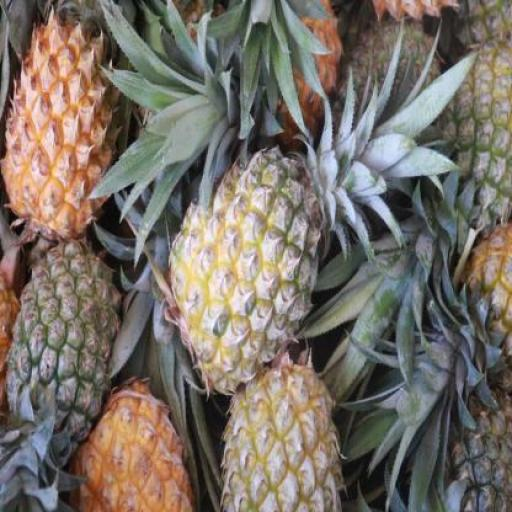------------------------------: (168, 145, 321, 392), (219, 360, 341, 512)
Pineapple - v8 v1: (6, 11, 118, 239), (69, 380, 192, 511)
